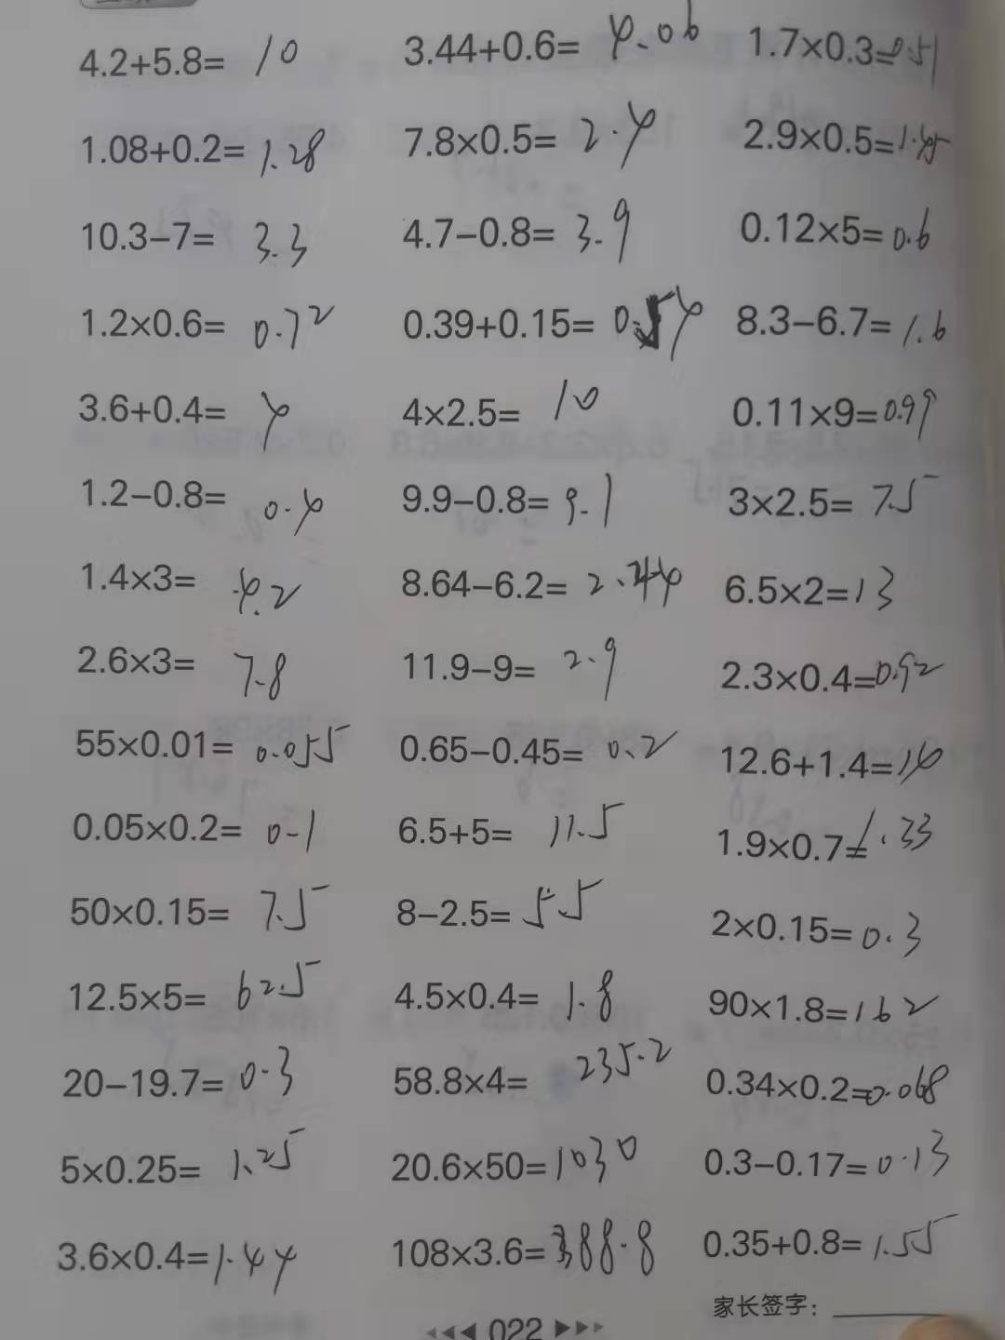equation: (388, 292, 716, 369), (371, 1036, 684, 1105), (394, 1, 710, 69), (387, 1113, 662, 1189), (401, 98, 660, 177), (690, 1201, 969, 1272), (59, 1036, 298, 1116), (385, 194, 643, 267), (60, 1122, 309, 1197), (384, 1213, 668, 1279), (49, 1226, 306, 1298), (385, 551, 691, 611), (81, 468, 330, 541), (63, 796, 329, 863), (694, 1124, 962, 1189), (386, 954, 620, 1029), (68, 378, 293, 455), (65, 959, 335, 1023), (67, 633, 295, 708), (690, 1054, 954, 1118), (734, 103, 962, 177), (75, 119, 339, 183), (708, 801, 941, 872), (393, 863, 608, 939), (385, 793, 633, 859), (718, 637, 954, 706), (729, 375, 940, 452), (53, 886, 342, 942), (388, 631, 624, 700), (703, 893, 931, 963), (391, 466, 624, 534), (68, 722, 360, 776), (67, 21, 302, 88), (65, 302, 349, 357), (734, 284, 954, 353), (73, 212, 311, 275), (76, 550, 304, 615), (388, 722, 688, 770), (744, 14, 946, 84), (701, 977, 946, 1034), (717, 470, 938, 532), (397, 378, 617, 440), (724, 198, 940, 261), (715, 734, 960, 788), (719, 556, 905, 618)
